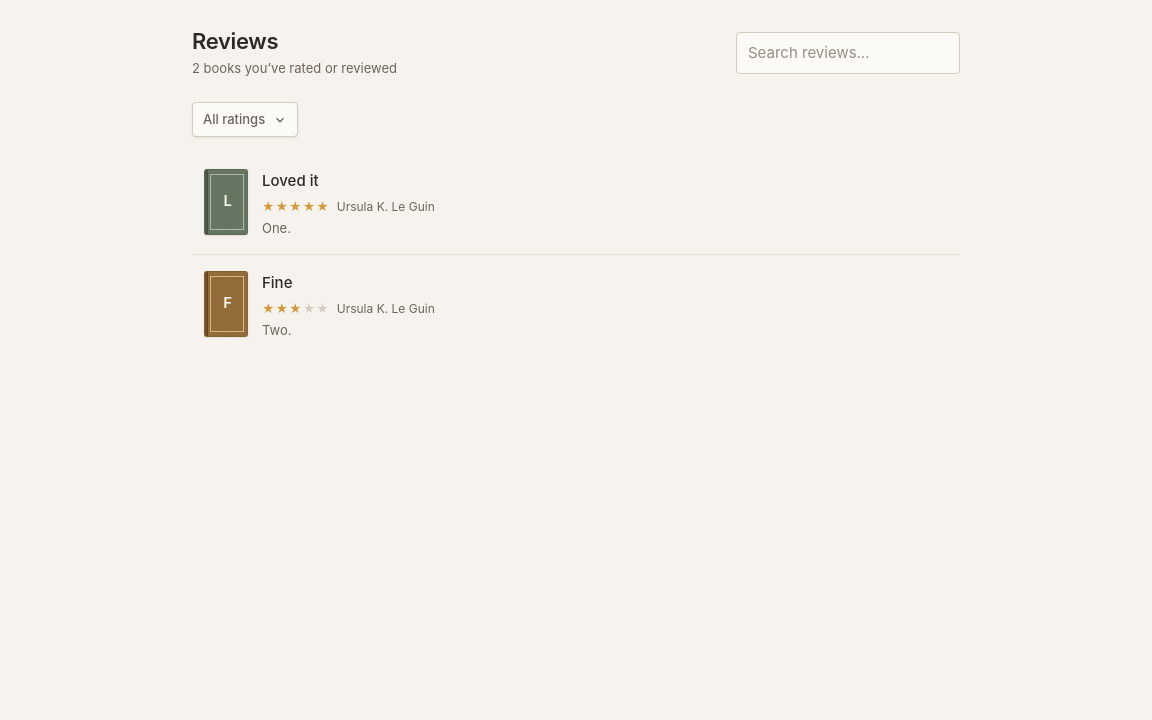
the Reviews screen › narrows to one rating
Click the button "All ratings": click(245, 120) [192,102,298,137]
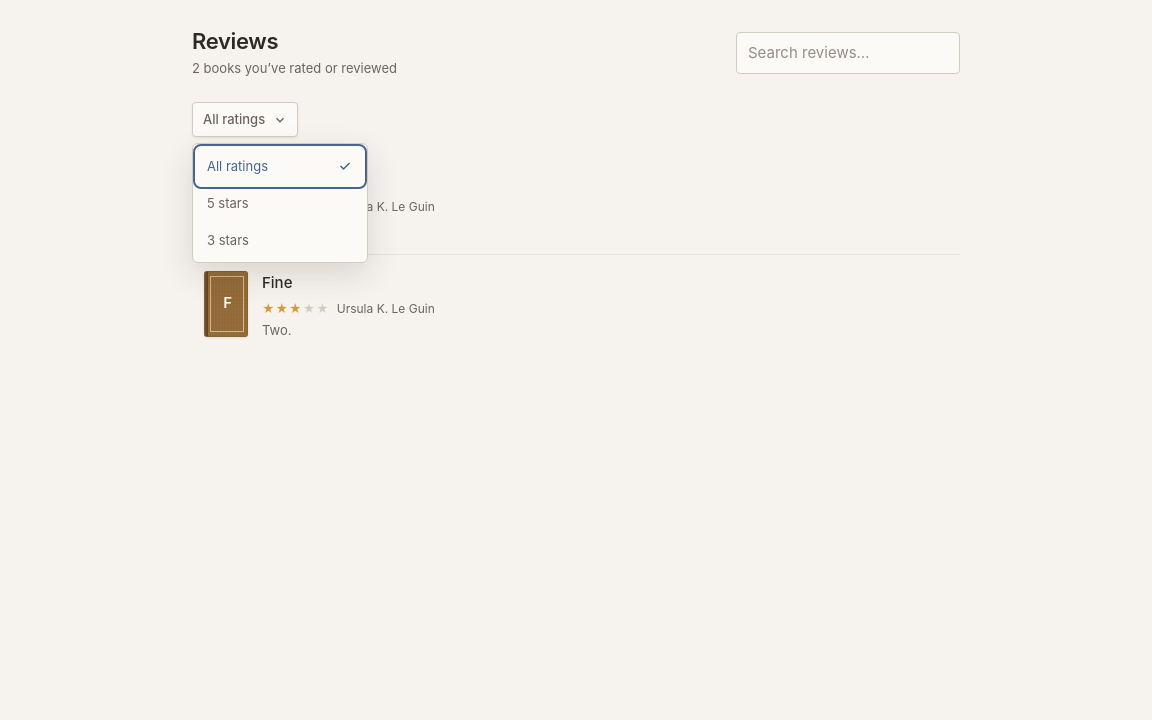
Click the button "5 stars": click(280, 203) [197,185,363,222]
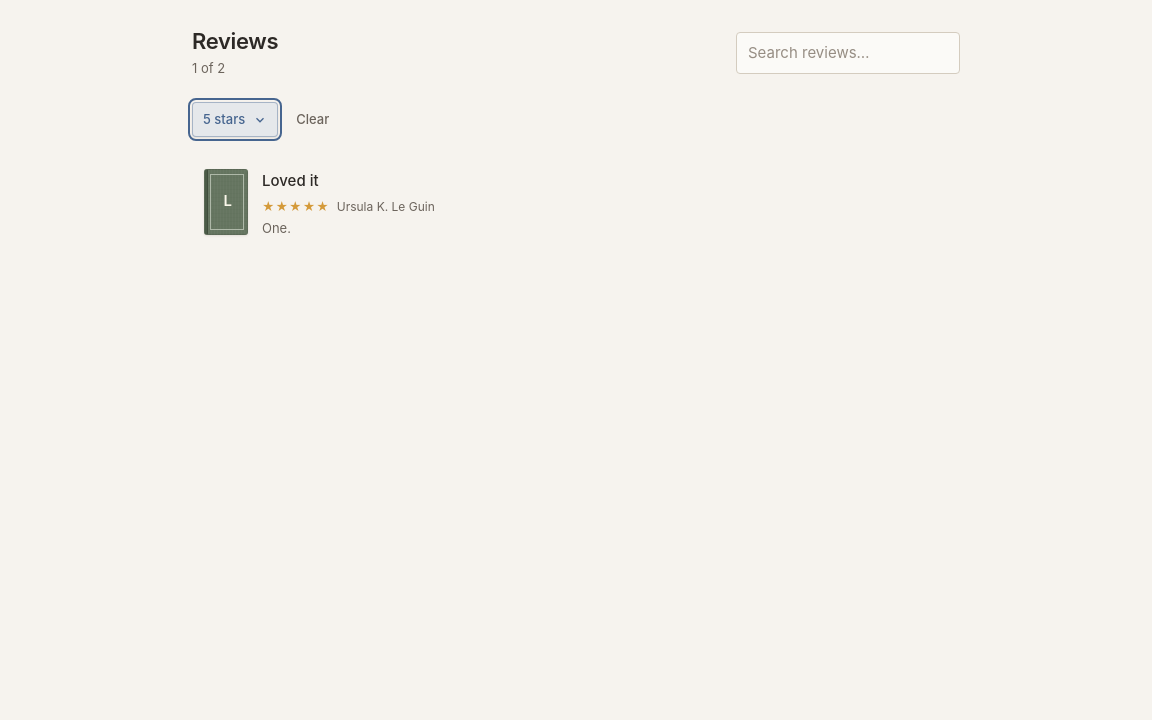
Expected: the text "One." is shown, [262,220,291,236]
Expected: the button "Two." is gone
